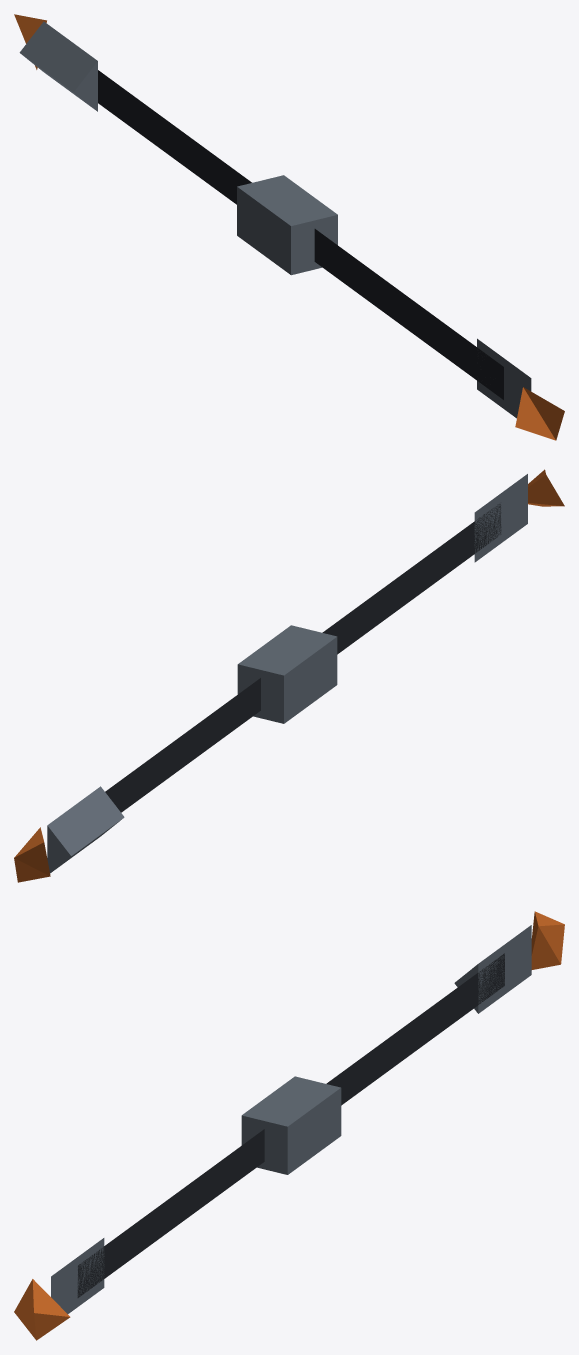
Rendered from electrostaff.lod.glb.
3 views of the same model, one above another, from view 1: azimuth 30°, elevation 25°; view 2: azimuth 150°, elevation 25°; view 3: azimuth 330°, elevation 25° (orthographic).
Visible parts, largest first — view 1: electrostaff; view 2: electrostaff; view 3: electrostaff.
Boxes of the visible parts, <box> form: electrostaff: <box>14,14,564,440</box>; electrostaff: <box>14,469,564,882</box>; electrostaff: <box>14,911,564,1340</box>.
Bounding box in the file's own units: 0.0535 × 0.0519 × 0.9943.
